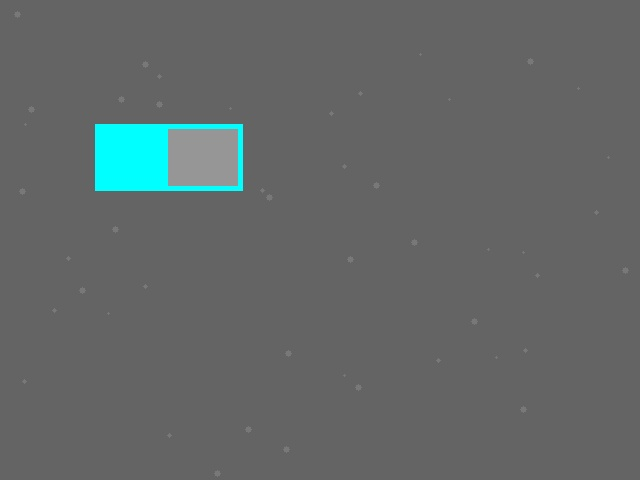truck: (95, 124, 242, 190)
